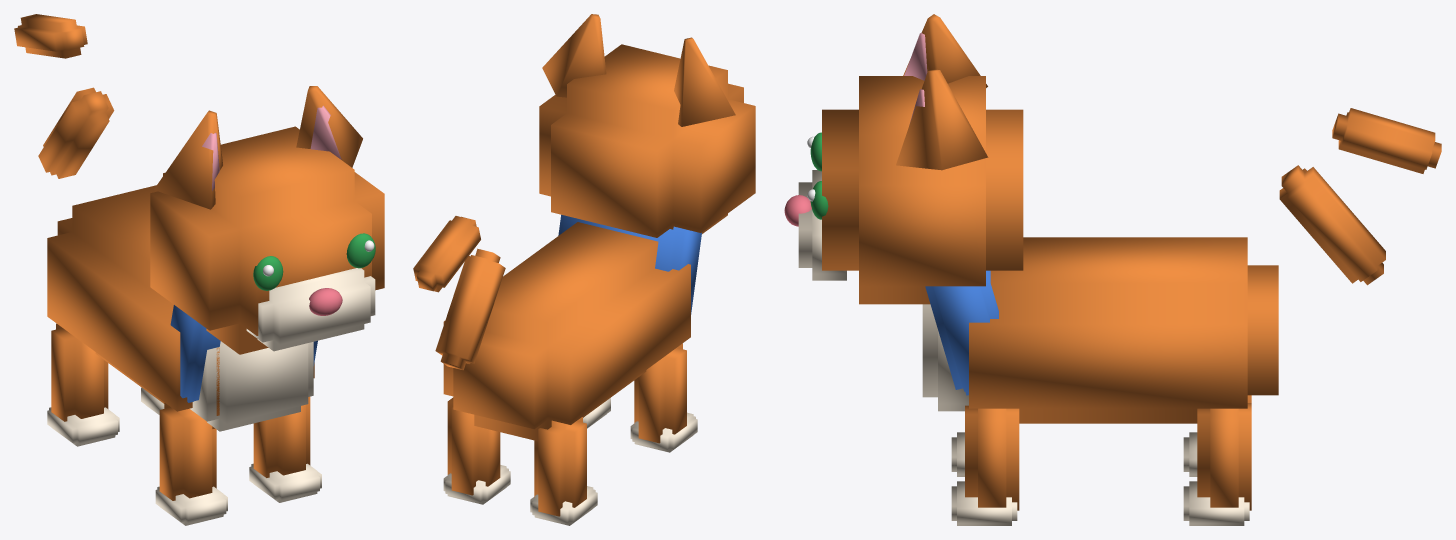
File: Pet_Cat_Tabby.glb
3 views of the same model, side by side, from view 1: azimuth 30°, elevation 25°; view 2: azimuth 150°, elevation 25°; view 3: azimuth 270°, elevation 25° (orthographic). The views are drawn at different scales.
Visible parts, largest first — view 1: Pet_Cat_Tabby_Head, Pet_Cat_Tabby_Body, Pet_Cat_Tabby_Chest, Pet_Cat_Tabby_Cheeks, Pet_Cat_Tabby_Leg_F-1, Pet_Cat_Tabby_Leg_B-1, Pet_Cat_Tabby_Tail1, Pet_Cat_Tabby_Ear_-1, Pet_Cat_Tabby_Leg_F1, Pet_Cat_Tabby_Tail2, Pet_Cat_Tabby_Collar, Pet_Cat_Tabby_Ear_1 (+7 smaller); view 2: Pet_Cat_Tabby_Body, Pet_Cat_Tabby_Head, Pet_Cat_Tabby_Tail1, Pet_Cat_Tabby_Leg_B-1, Pet_Cat_Tabby_Leg_F-1, Pet_Cat_Tabby_Leg_B1, Pet_Cat_Tabby_Ear_-1, Pet_Cat_Tabby_Tail2, Pet_Cat_Tabby_Ear_1, Pet_Cat_Tabby_Collar, Pet_Cat_Tabby_Paw_F-1, Pet_Cat_Tabby_Paw_B-1 (+1 smaller); view 3: Pet_Cat_Tabby_Body, Pet_Cat_Tabby_Head, Pet_Cat_Tabby_Tail1, Pet_Cat_Tabby_Leg_B1, Pet_Cat_Tabby_Leg_F1, Pet_Cat_Tabby_Ear_1, Pet_Cat_Tabby_Tail2, Pet_Cat_Tabby_Collar, Pet_Cat_Tabby_Chest, Pet_Cat_Tabby_Ear_-1, Pet_Cat_Tabby_Cheeks, Pet_Cat_Tabby_Paw_B1 (+1 smaller).
Boxes of the visible parts, x1,y1,x2,y2 form: Pet_Cat_Tabby_Head: (150,126,384,354); Pet_Cat_Tabby_Body: (47,185,314,428); Pet_Cat_Tabby_Chest: (190,341,313,431); Pet_Cat_Tabby_Cheeks: (246,268,375,351); Pet_Cat_Tabby_Leg_F-1: (159,403,216,500); Pet_Cat_Tabby_Leg_B-1: (51,323,108,421); Pet_Cat_Tabby_Tail1: (38,87,114,178); Pet_Cat_Tabby_Ear_-1: (154,110,222,209); Pet_Cat_Tabby_Leg_F1: (253,396,310,477); Pet_Cat_Tabby_Tail2: (14,14,87,58); Pet_Cat_Tabby_Collar: (170,305,317,402); Pet_Cat_Tabby_Ear_1: (296,86,362,167); Pet_Cat_Tabby_Body: (443,222,690,441); Pet_Cat_Tabby_Head: (539,44,755,237); Pet_Cat_Tabby_Tail1: (435,248,505,370); Pet_Cat_Tabby_Leg_B-1: (534,417,586,516); Pet_Cat_Tabby_Leg_F-1: (634,343,686,443); Pet_Cat_Tabby_Leg_B1: (447,397,500,495); Pet_Cat_Tabby_Ear_-1: (674,37,735,126); Pet_Cat_Tabby_Tail2: (413,216,480,292); Pet_Cat_Tabby_Ear_1: (542,14,606,97); Pet_Cat_Tabby_Collar: (558,214,701,314); Pet_Cat_Tabby_Paw_F-1: (630,412,697,452); Pet_Cat_Tabby_Paw_B-1: (530,486,597,525); Pet_Cat_Tabby_Body: (969,237,1278,423); Pet_Cat_Tabby_Head: (822,76,1023,304); Pet_Cat_Tabby_Tail1: (1279,165,1385,285); Pet_Cat_Tabby_Leg_B1: (1197,403,1251,510); Pet_Cat_Tabby_Leg_F1: (965,405,1019,510); Pet_Cat_Tabby_Ear_1: (896,69,988,170); Pet_Cat_Tabby_Tail2: (1332,108,1441,173); Pet_Cat_Tabby_Collar: (925,270,998,395); Pet_Cat_Tabby_Chest: (922,304,968,411); Pet_Cat_Tabby_Ear_-1: (903,14,987,87); Pet_Cat_Tabby_Cheeks: (798,170,846,280); Pet_Cat_Tabby_Paw_B1: (1183,481,1249,525).
Bounding box in the file's own units: 0.3354 × 0.6399 × 0.8488.
